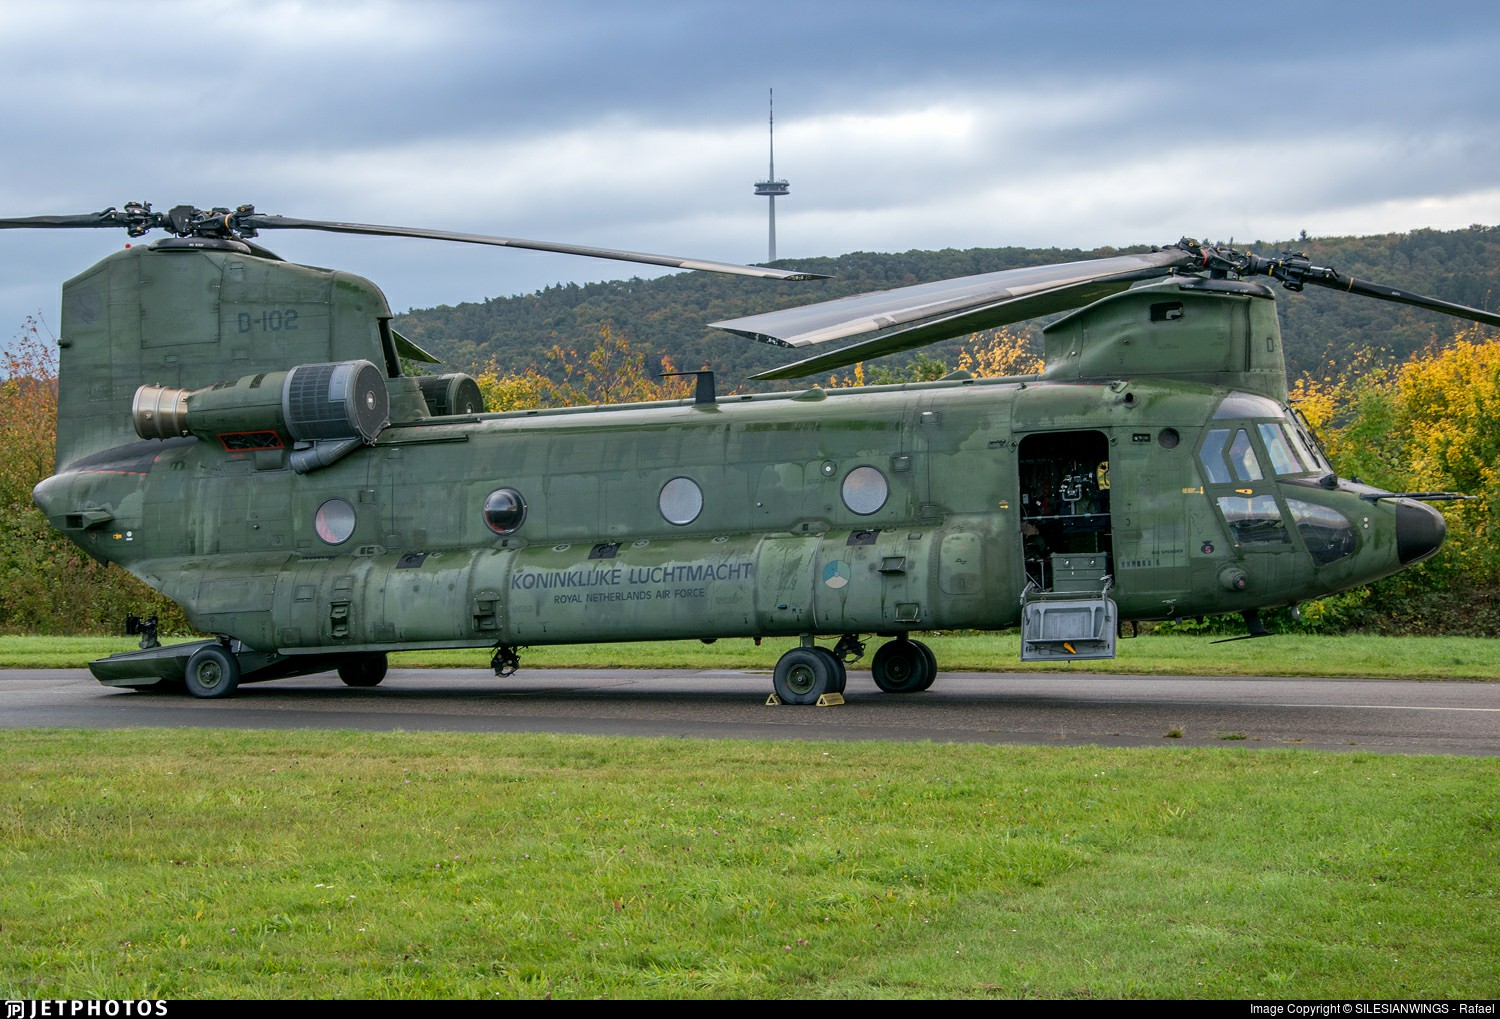chinook: (17, 201, 1457, 706)
